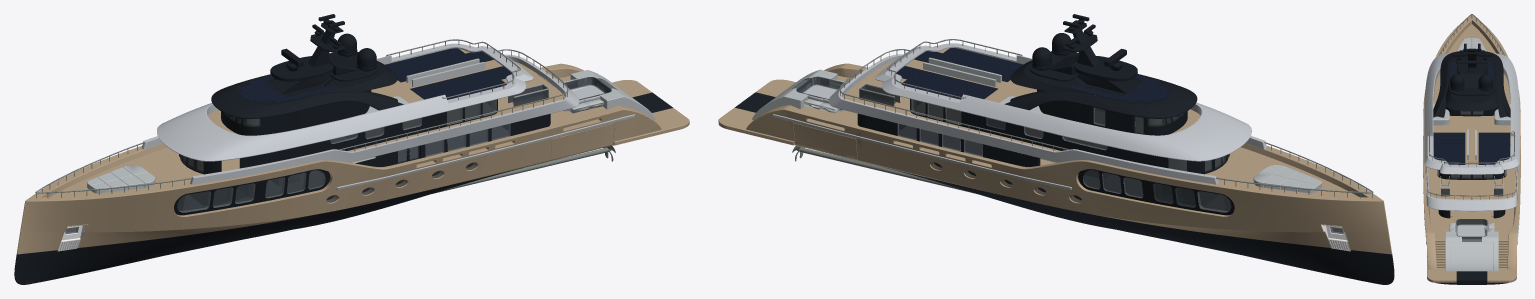
File: drift-60.glb
3 renders of one model, left to right at view 1: azimuth 30°, elevation 25°; view 2: azimuth 150°, elevation 25°; view 3: azimuth 270°, elevation 25°, orthographic. The views are drawn at different scales.
Visible parts, largest first — view 1: DRIFT 60; view 2: DRIFT 60; view 3: DRIFT 60.
Boxes of the visible parts, <box> form: DRIFT 60: <box>14,14,689,284</box>; DRIFT 60: <box>718,14,1394,284</box>; DRIFT 60: <box>1423,14,1520,284</box>.
Bounding box in the file's own units: 2023579 × 588170 × 364549.
